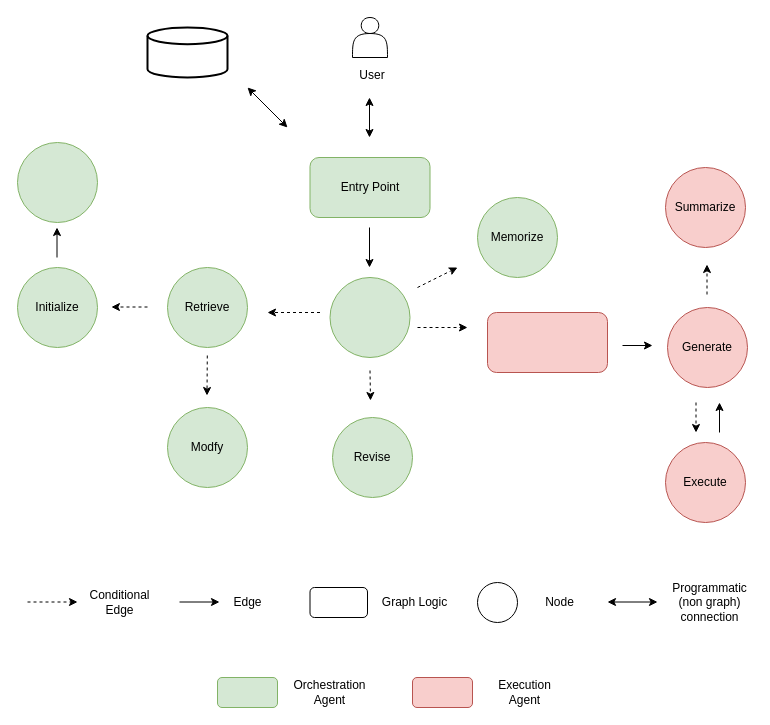
This 770x725 diagram has some shape labels left out. Each missing label, with the centre of its shape:
Execute Graph: [547,342]
Orchestrate: [369,317]
State: [187,52]
Update: [57,182]
